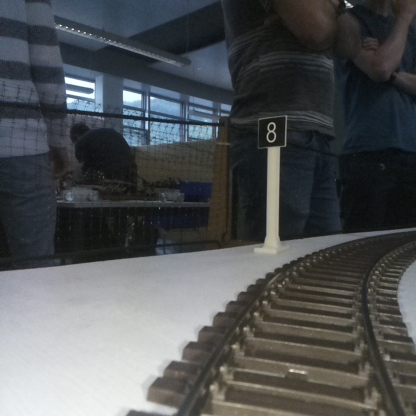black-info-8: (259, 115, 285, 252)
